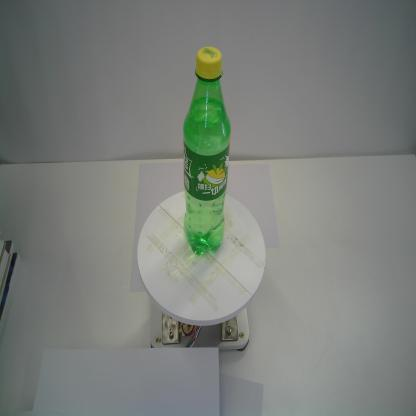Drink: (180, 43, 234, 256)
